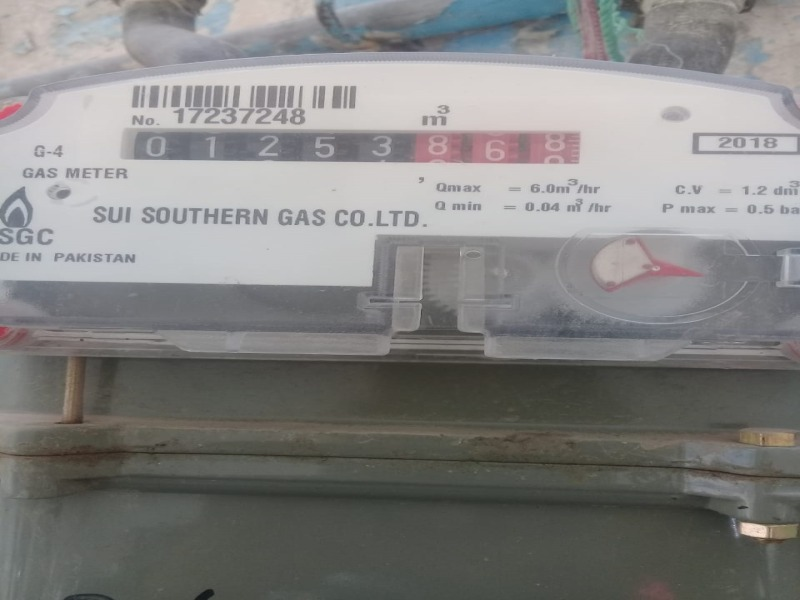ssgc: (114, 123, 583, 169)
